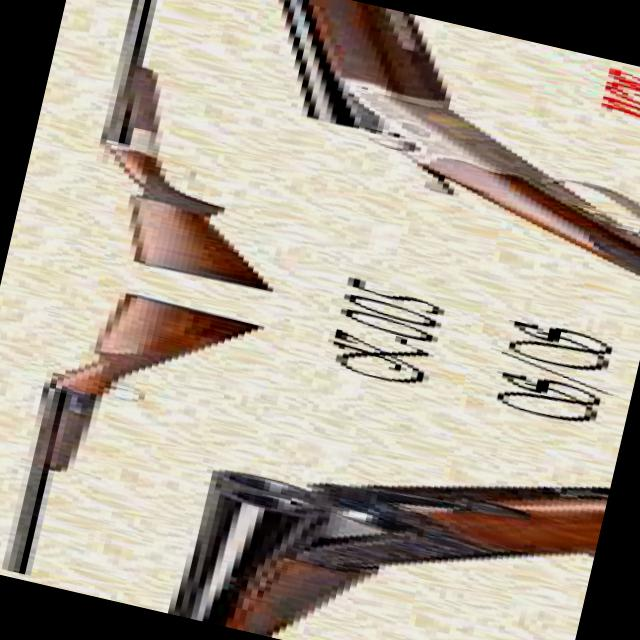long weapon: (0, 266, 307, 590), (33, 0, 307, 302)
